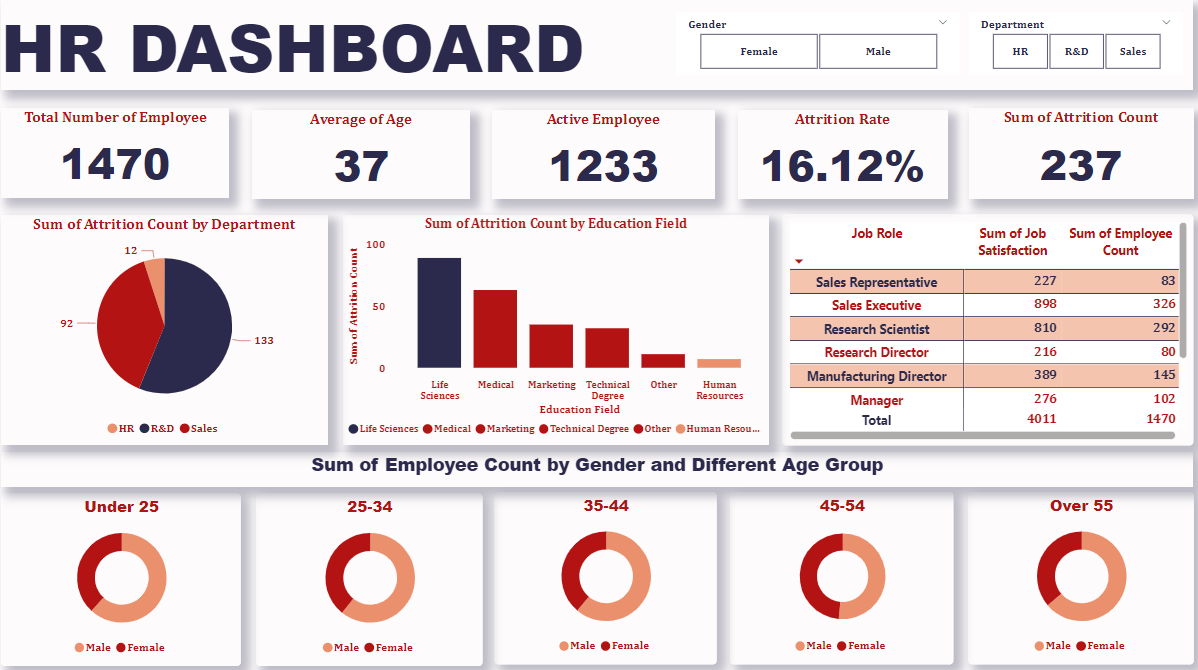

This screenshot's page, from the dashboard's own definition file:
{"tool":"powerbi","page":{"name":"Page 1","canvas":[1280,720],"ordinal":0},"visuals":[{"type":"card","title":"Total Number of Employee","fields":{"Values":["Sum(HR data.Employee Count)"]},"box":[9.5,124,241.6,95.4],"z":0},{"type":"card","title":"Sum of Attrition Count","fields":{"Values":["Sum(HR data.Attrition Count)"]},"box":[1034.7,124,238.4,97],"z":1000},{"type":"card","title":"Attrition Rate","fields":{"Values":["HR data.Attrition Rate"]},"box":[789.1,125.6,222.5,95.4],"z":2000},{"type":"card","title":"Active Employee","fields":{"Values":["HR data.Active Employee"]},"box":[529.3,125.6,236.8,95.4],"z":3000},{"type":"card","title":"Average of Age","fields":{"Values":["Avg(HR data.Age)"]},"box":[274.2,125.6,232.1,95.4],"z":4000},{"type":"pieChart","fields":{"Y":["Sum(HR data.Attrition Count)"],"Series":["HR data.Department"]},"box":[9.5,236.8,346.5,244.8],"z":5000},{"type":"donutChart","title":"45-54","fields":{"Category":["HR data.Gender"],"Y":["Sum(HR data.Employee Number)"],"Series":["HR data.CF_age band"]},"box":[782,530.9,236.8,182.8],"z":6000},{"type":"donutChart","title":"35-44","fields":{"Category":["HR data.Gender"],"Y":["Sum(HR data.Employee Count)"],"Series":["HR data.CF_age band"]},"box":[532.5,530.9,235.2,182.8],"z":7000},{"type":"donutChart","title":"25-34","fields":{"Category":["HR data.Gender"],"Y":["Sum(HR data.Employee Count)"],"Series":["HR data.CF_age band"]},"box":[279.7,532.5,240,182.8],"z":8000},{"type":"donutChart","title":"Over 55","fields":{"Category":["HR data.Gender"],"Y":["Sum(HR data.Employee Count)"],"Series":["HR data.CF_age band"]},"box":[1034.7,530.9,238.4,182.8],"z":9000},{"type":"donutChart","title":"Under 25","fields":{"Category":["HR data.Gender"],"Y":["Sum(HR data.Employee Count)"],"Series":["HR data.CF_age band"]},"box":[9.5,532.5,254.3,182.8],"z":10000},{"type":"pivotTable","fields":{"Rows":["HR data.Job Role"],"Values":["Sum(HR data.Job Satisfaction)","Sum(HR data.Employee Count)"]},"box":[837.6,236.8,435.5,244.8],"z":11000},{"type":"columnChart","title":"Sum of Attrition Count by Education Field ","fields":{"Category":["HR data.Education Field"],"Y":["Sum(HR data.Attrition Count)"],"Series":["HR data.Education Field"]},"box":[371.9,236.8,451.4,244.8],"z":12000},{"type":"shape","title":"Sum of Employee Count by Gender and Different Age Group","box":[9.5,487.9,1263.6,38.1],"z":13000},{"type":"shape","title":"       HR DASHBOARD","box":[9.5,9.5,1263.6,95.4],"z":14000},{"type":"slicer","fields":{"Values":["HR data.Gender"]},"box":[724.8,22.3,300.4,66.8],"z":15000},{"type":"slicer","fields":{"Values":["HR data.Department"]},"box":[1034.7,22.3,227.3,66.8],"z":16000}]}

Visuals, with their boxes in screenshot pixels (x1, y1, x2, y2), scaled from the page's 1280x720 canvas onto the 1198x670 screenshot:
"Total Number of Employee" card: l=9, t=115, r=235, b=204
"Sum of Attrition Count" card: l=968, t=115, r=1192, b=206
"Attrition Rate" card: l=739, t=117, r=947, b=206
"Active Employee" card: l=495, t=117, r=717, b=206
"Average of Age" card: l=257, t=117, r=474, b=206
pieChart - Sum(HR data.Attrition Count) x HR data.Department: l=9, t=220, r=333, b=448
"45-54" donutChart: l=732, t=494, r=954, b=664
"35-44" donutChart: l=498, t=494, r=719, b=664
"25-34" donutChart: l=262, t=496, r=486, b=666
"Over 55" donutChart: l=968, t=494, r=1192, b=664
"Under 25" donutChart: l=9, t=496, r=247, b=666
pivotTable - HR data.Job Role x Sum(HR data.Job Satisfaction): l=784, t=220, r=1192, b=448
"Sum of Attrition Count by Education Field " columnChart: l=348, t=220, r=771, b=448
"Sum of Employee Count by Gender and Different Age Group" shape: l=9, t=454, r=1192, b=489
"       HR DASHBOARD" shape: l=9, t=9, r=1192, b=98
slicer - HR data.Gender: l=678, t=21, r=960, b=83
slicer - HR data.Department: l=968, t=21, r=1181, b=83
